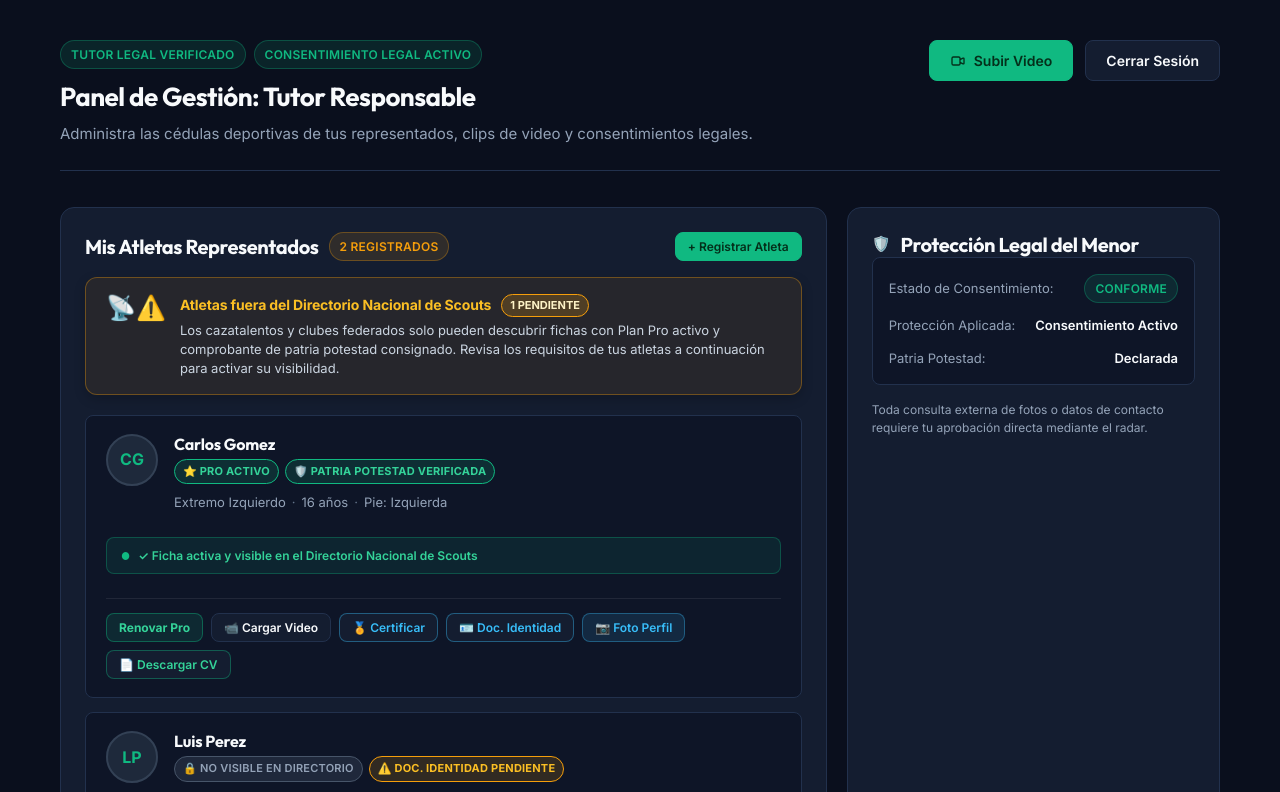
Test: TutorDashboardComponent - TS-29 Video Upload Restrictions › TS-41 Carga y Gestión de Foto de Perfil del Atleta › should open photo modal when clicking on athlete avatar
This screenshot has width=1280, height=792.
Click the 1st element with class "athlete-avatar-clickable": point(132, 460) [106, 434, 158, 486]
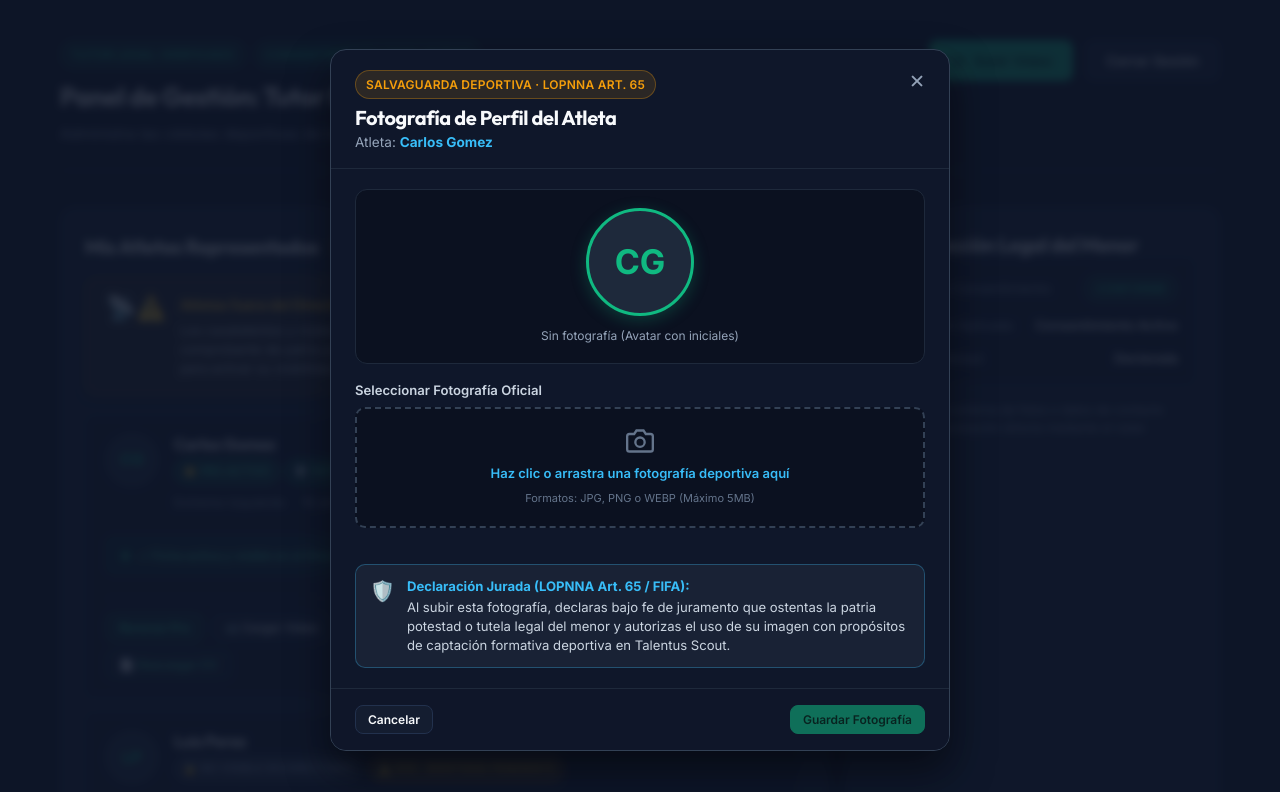
expect the heading "Fotografía de Perfil del Atleta" is shown: met, box [355, 105, 656, 130]
